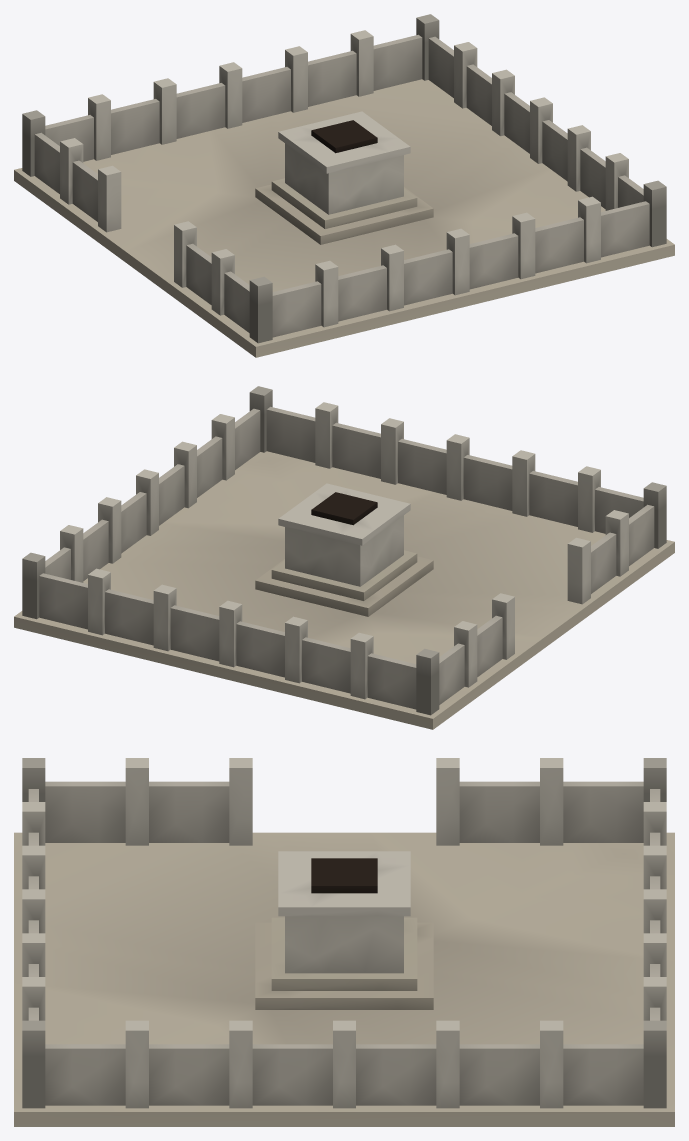
Rendered from altar-twelve.glb.
3 renders of one model, top to bottom at view 1: azimuth 30°, elevation 25°; view 2: azimuth 150°, elevation 25°; view 3: azimuth 270°, elevation 25°, orthographic. The views are drawn at different scales.
Parts seen in each view (by area): view 1: p1_parapet, p0_enclosure; view 2: p1_parapet, p0_enclosure; view 3: p0_enclosure, p1_parapet.
Part boxes in pixels (box(x1,y1,x2,y2)): p1_parapet: box(22, 14, 666, 343); p0_enclosure: box(14, 79, 674, 357); p1_parapet: box(22, 386, 666, 715); p0_enclosure: box(14, 451, 674, 729); p0_enclosure: box(14, 832, 674, 1126); p1_parapet: box(22, 758, 666, 1108).
Bounding box in the file's own units: 10 × 1.92 × 10.
